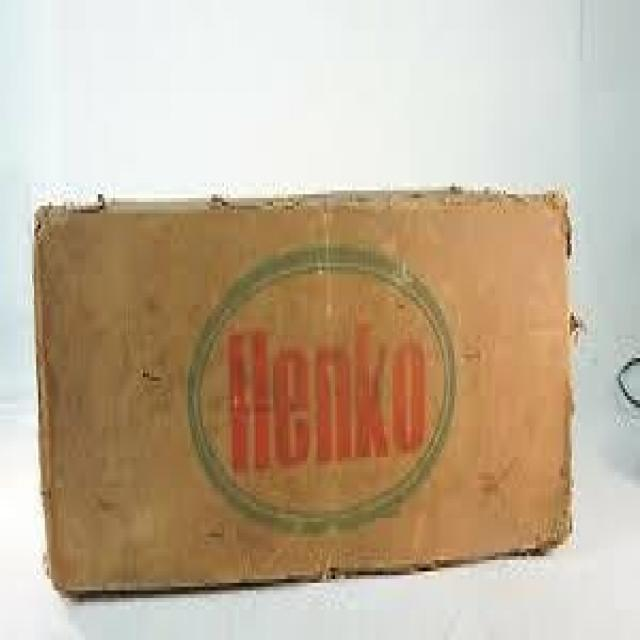box: (32, 187, 576, 602)
